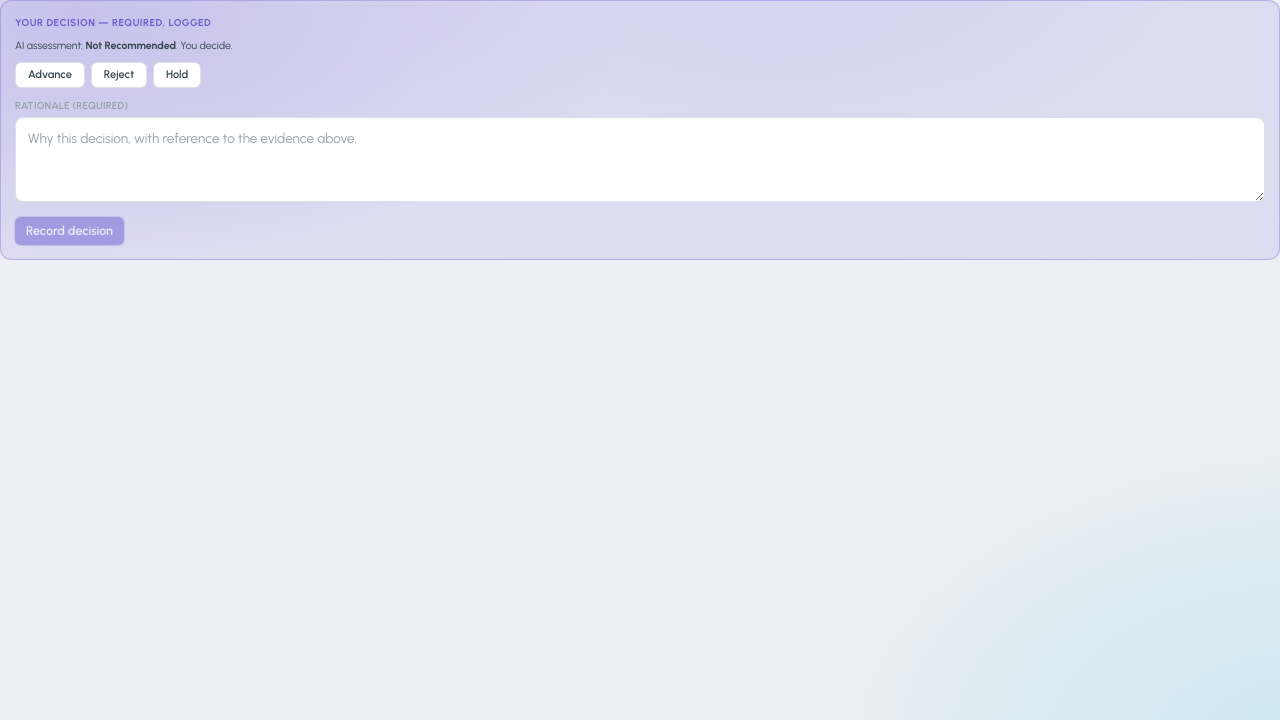
Scenario: HumanDecisionPanel › disables submit until a decision is chosen AND a rationale is entered
Expected: the button "Record decision" is disabled, [15, 217, 124, 245]
Click the button "Reject": (119,75) [91, 62, 147, 88]
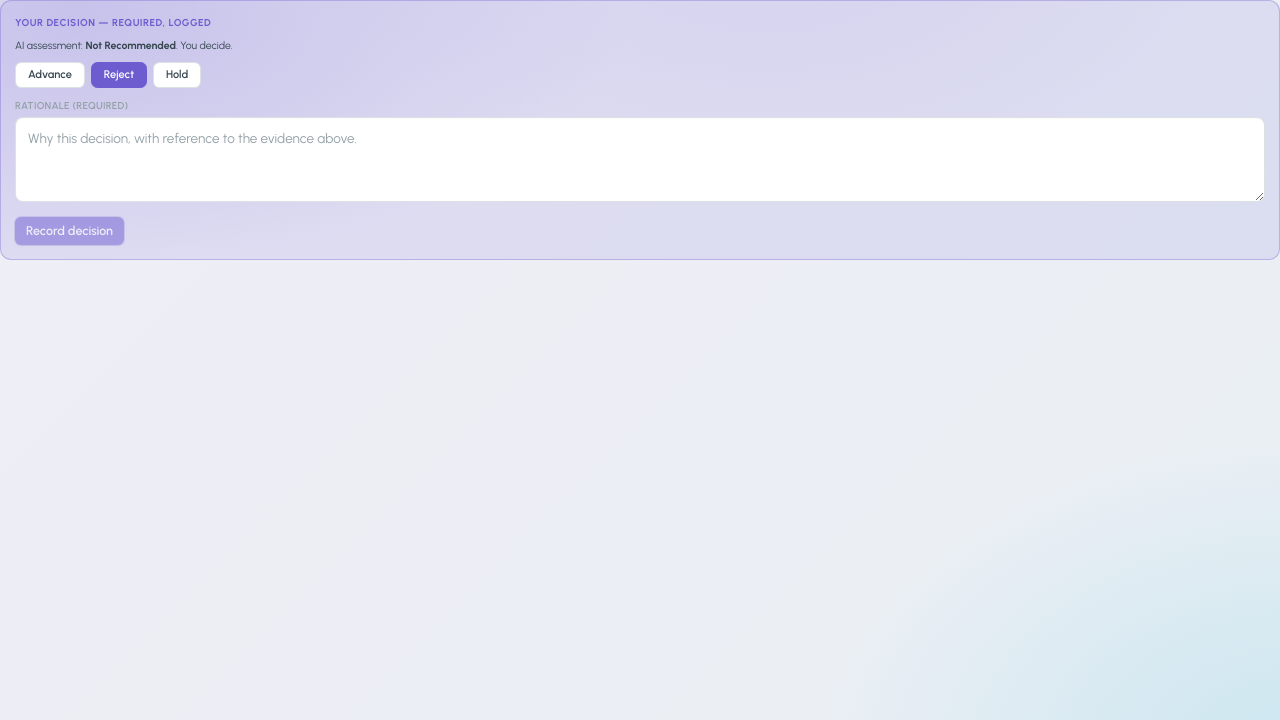
Expected: the button "Record decision" is disabled, [15, 217, 124, 245]
In the text box labelled "Rationale (required)": (640,160) [15, 117, 1265, 202], type "agrees with the evidence"
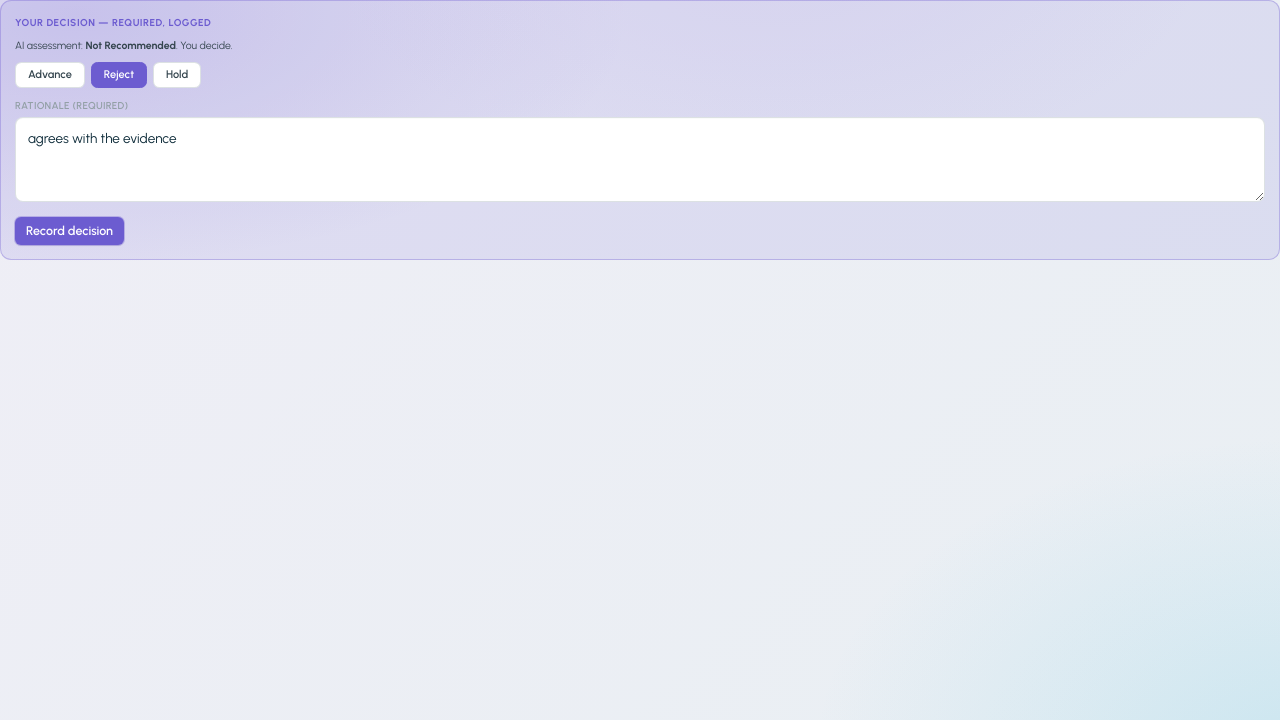
Expected: the button "Record decision" is enabled, [15, 217, 124, 245]
